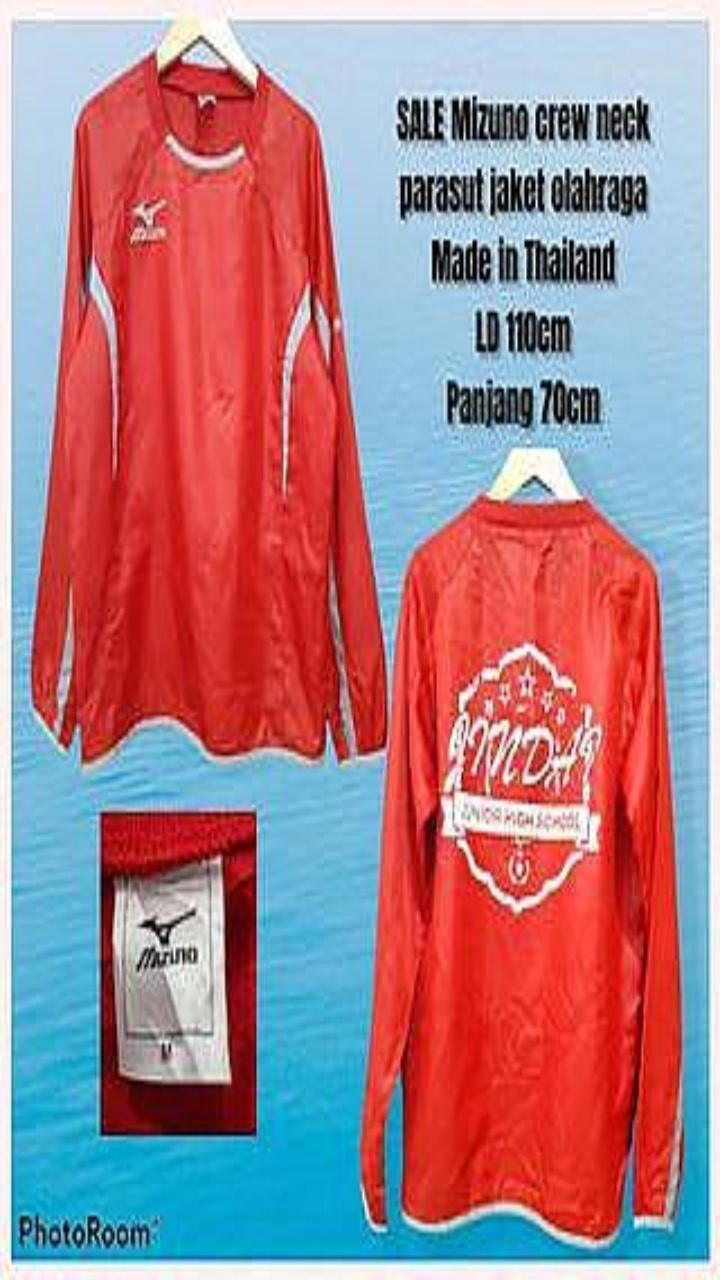Sports_Jacket: (32, 56, 384, 761), (362, 497, 681, 1243)
